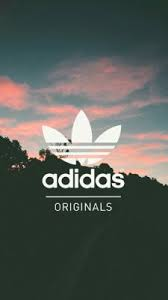adidas: (40, 107, 127, 189)
